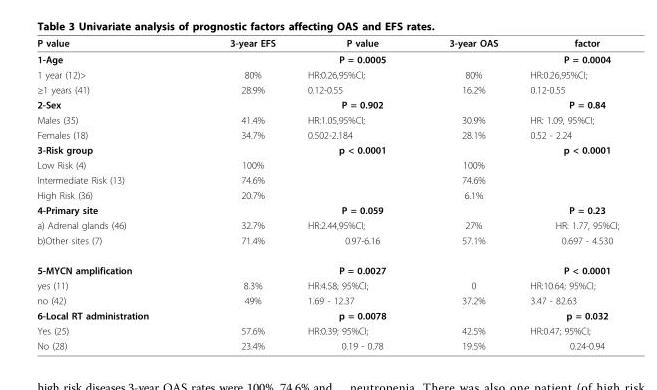table: (36, 36, 618, 351)
table column: (36, 36, 188, 351), (290, 36, 416, 351), (513, 36, 618, 351), (188, 36, 290, 351), (416, 36, 513, 351)
table column header: (36, 36, 618, 50)
table row: (36, 232, 618, 255), (36, 255, 618, 277), (36, 50, 618, 66), (36, 96, 618, 112), (36, 66, 618, 81), (36, 81, 618, 96), (36, 112, 618, 127), (36, 127, 618, 142), (36, 142, 618, 157), (36, 157, 618, 172), (36, 172, 618, 187), (36, 187, 618, 202), (36, 202, 618, 217), (36, 217, 618, 232), (36, 277, 618, 292), (36, 292, 618, 307), (36, 307, 618, 322), (36, 322, 618, 337), (36, 36, 618, 50), (36, 337, 618, 351)
